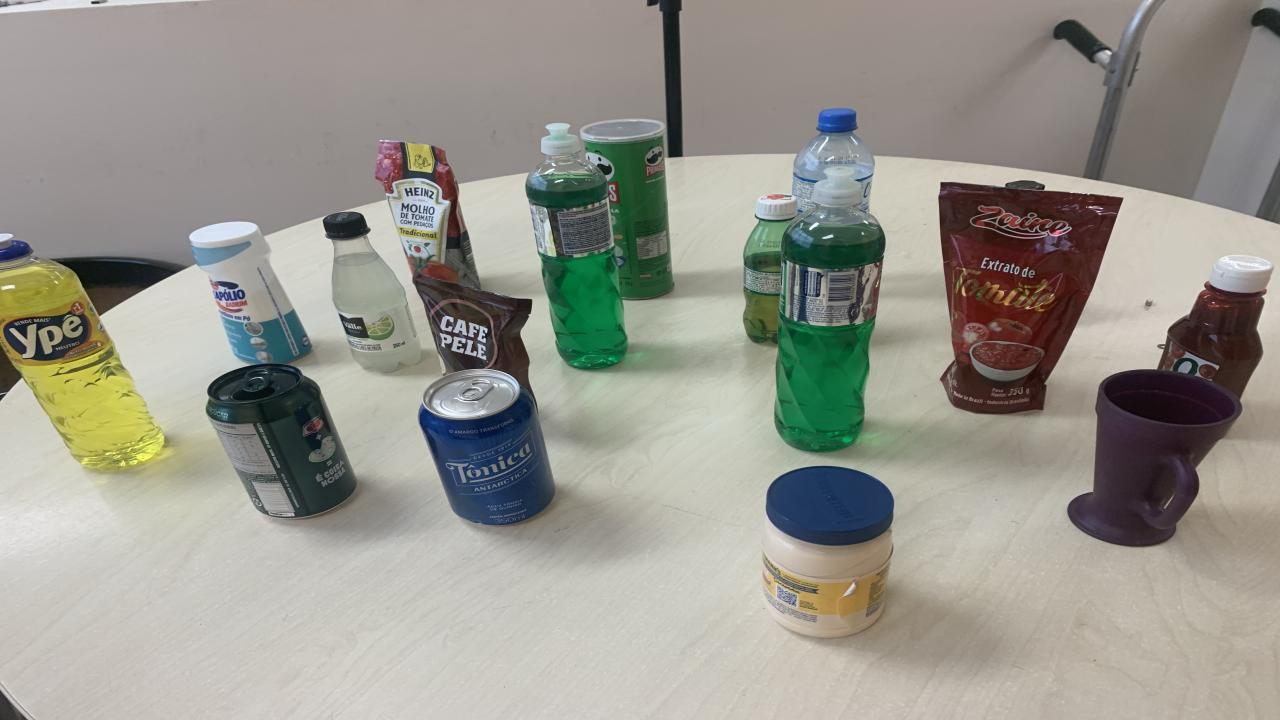Cleaner-Cleanup_Items: (190, 221, 312, 364)
Coffee-Pantry_Items: (412, 272, 535, 399)
Detergent-Cleanup_Items: (0, 234, 165, 469), (775, 167, 885, 452), (525, 124, 628, 369)
Guarana-Drinks: (742, 193, 798, 343)
Guarana_Can-Drinks: (205, 364, 355, 519)
Ketchup-Pantry_Items: (1158, 255, 1275, 396)
Mayonnaise-Pantry_Items: (762, 467, 895, 638)
Pringles-Snacks: (580, 118, 672, 300)
Soda-Drinks: (322, 212, 420, 371)
Tomato_Sauce-Pantry_Items: (940, 182, 1122, 412), (375, 141, 480, 289)
Tonic-Drinks: (418, 368, 555, 525)
Water_Bottle-Drinks: (792, 109, 875, 212)
